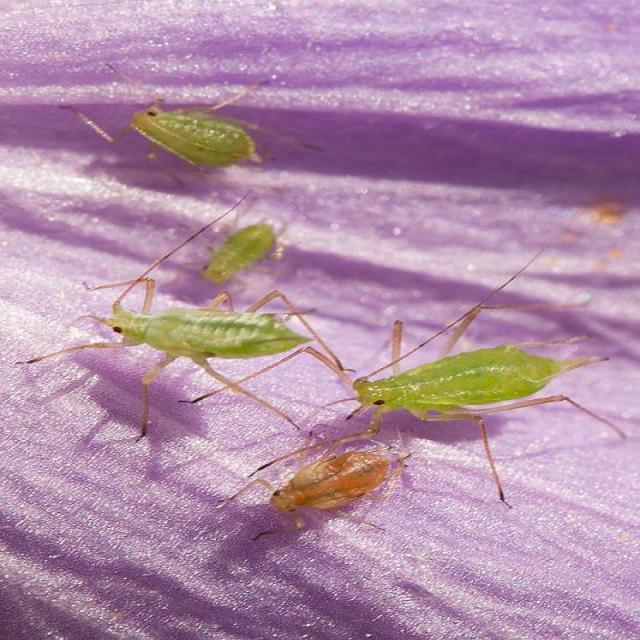aphid: (334, 322, 596, 452), (74, 290, 324, 386), (264, 444, 432, 534), (124, 102, 290, 168), (194, 208, 290, 301)
